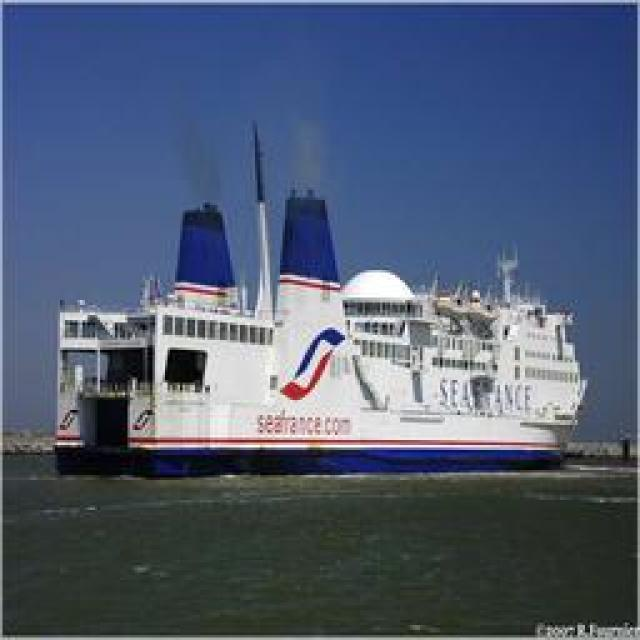CIV_Ship: (41, 119, 584, 459)
